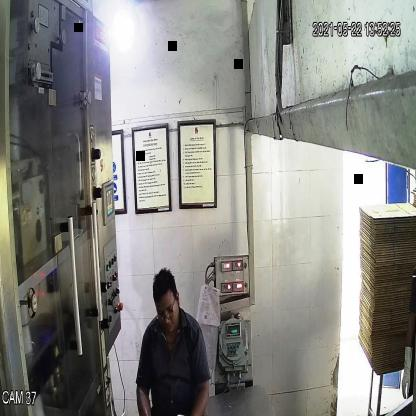goggles: (152, 298, 178, 326)
